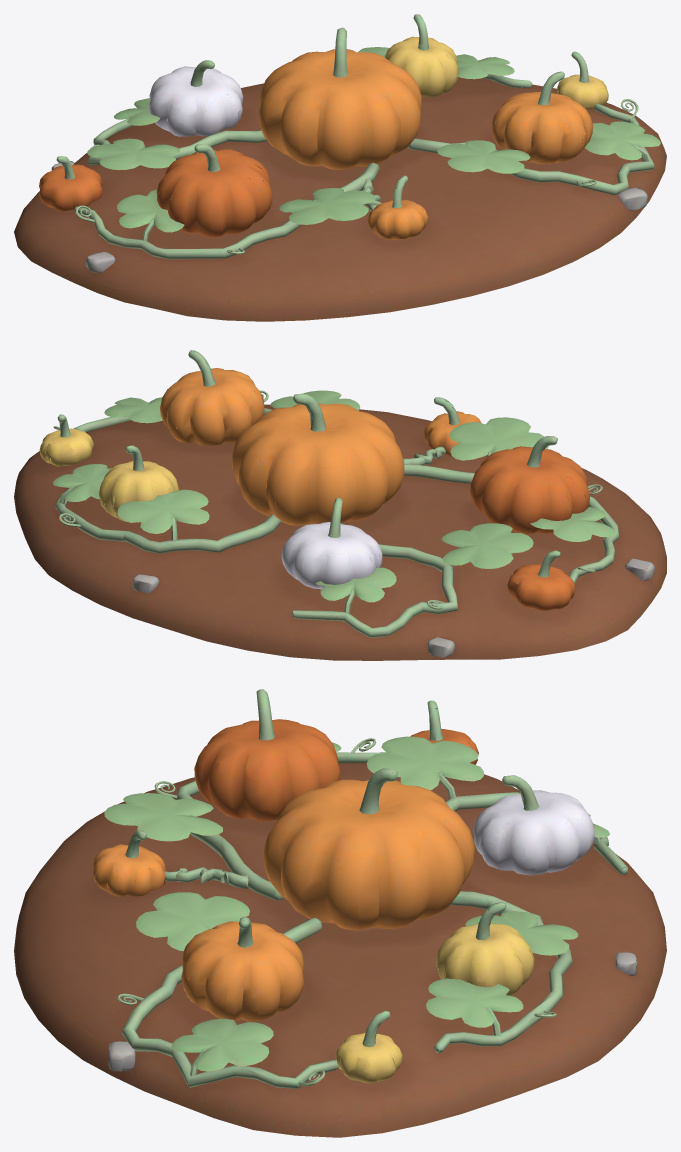
Rendered from huerto_calabazas.glb.
3 views of the same model, one above another, from view 1: azimuth 30°, elevation 25°; view 2: azimuth 150°, elevation 25°; view 3: azimuth 270°, elevation 25° (orthographic). The views are drawn at different scales.
Parts seen in each view (by area): view 1: pumpkin-patch_body; view 2: pumpkin-patch_body; view 3: pumpkin-patch_body.
Boxes of the visible parts, <box> form: pumpkin-patch_body: <box>14,14,666,321</box>; pumpkin-patch_body: <box>14,350,666,660</box>; pumpkin-patch_body: <box>14,689,666,1137</box>.
Size of the model in its own units: 1.76 by 0.4342 by 1.32.
Materials: 1 (1 with a texture image).
